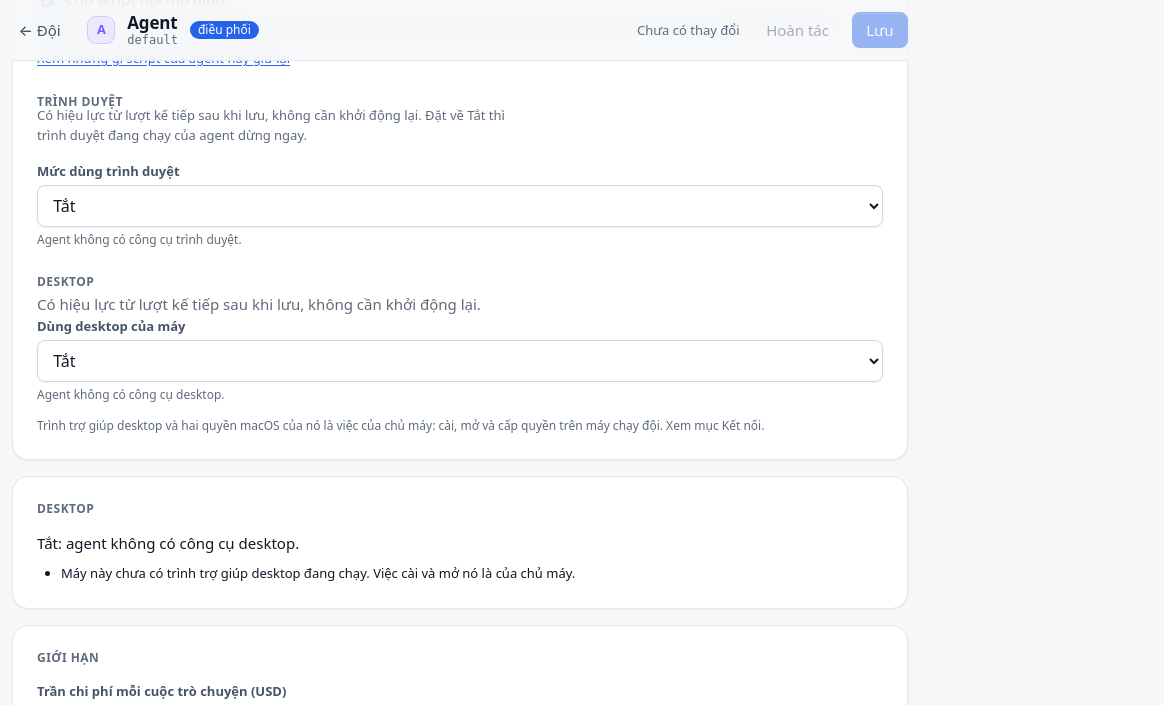
Test: whether an agent may use the machine's desktop › saves on as the word itself, never as a switch
The image size is (1164, 705).
(page scrolled)
Select "Bật" in the dropdown labelled "Dùng desktop của máy" at (460, 361), box [37, 340, 883, 382]
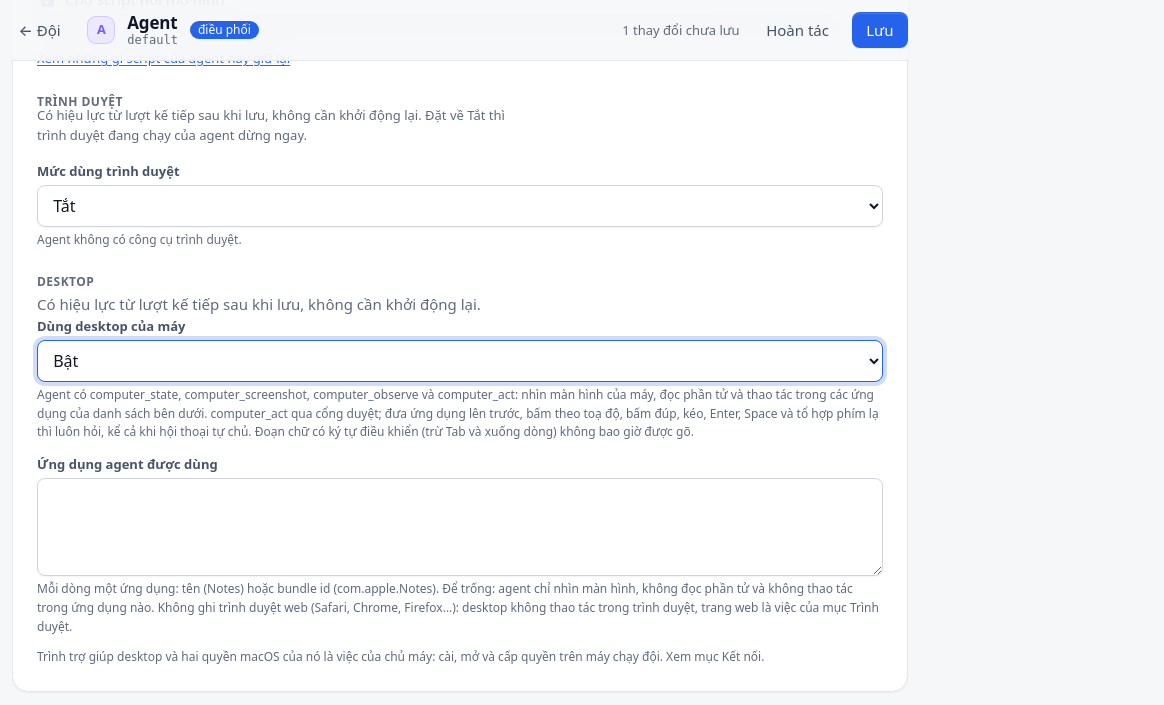
Click the button "Lưu" at (880, 30), box [852, 12, 908, 48]
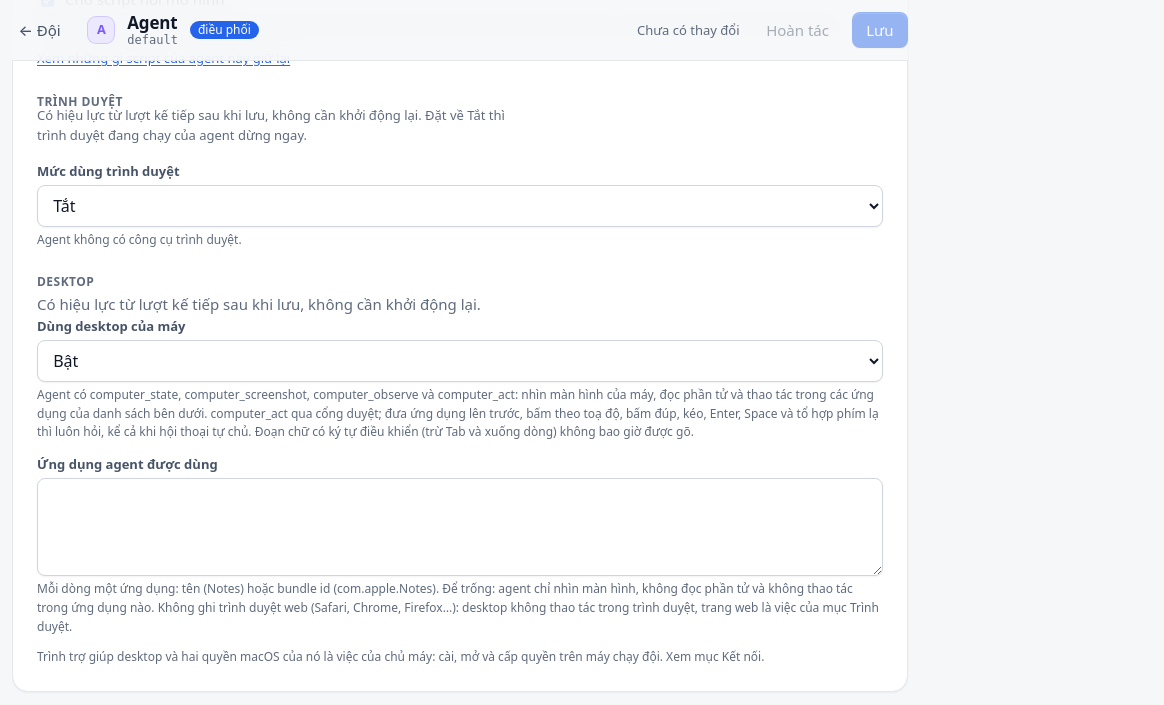
Now the text "Chưa có thay đổi" is shown, box [637, 20, 740, 40]
